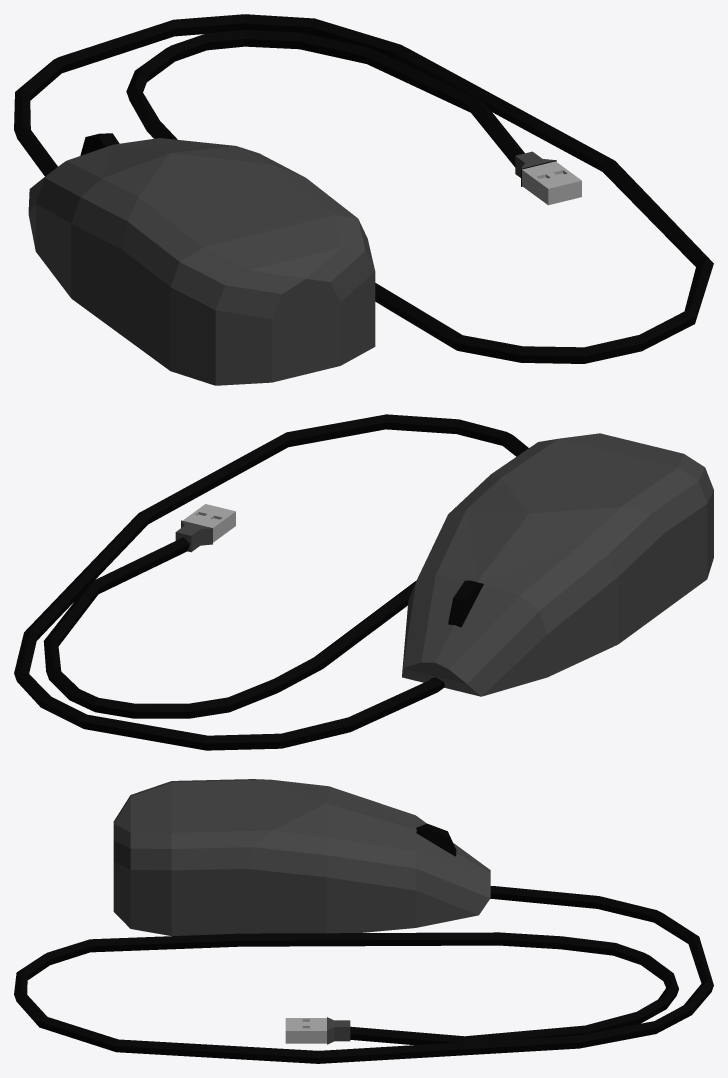
File: Mouse.fbx
The picture shows the model from 3 angles, top to bottom: view 1: azimuth 30°, elevation 25°; view 2: azimuth 150°, elevation 25°; view 3: azimuth 270°, elevation 25°; orthographic projection. The views are drawn at different scales.
Parts seen in each view (by area): view 1: Cube; view 2: Cube; view 3: Cube.
Boxes of the visible parts, left/top/right/bottom form: Cube: left=14, top=14, right=713, bottom=385; Cube: left=14, top=414, right=713, bottom=750; Cube: left=14, top=779, right=713, bottom=1063.
Bounding box in the file's own units: 10.45 × 2.26 × 15.05.
